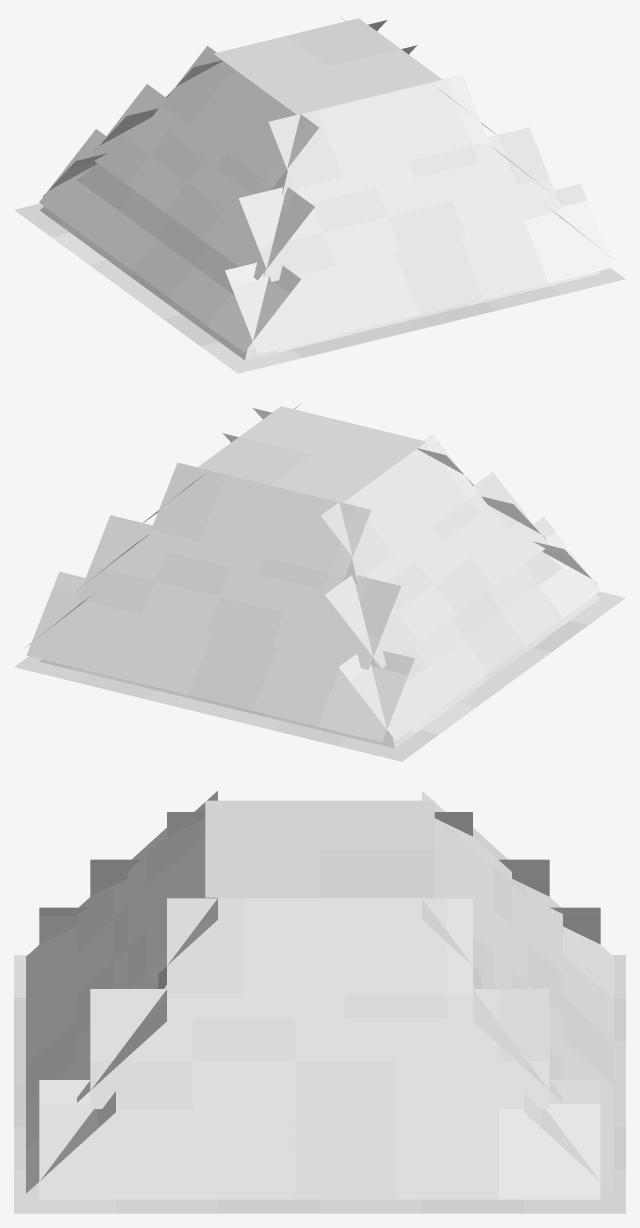
Rendered from dust_pile_large.obj.
3 views of the same model, one above another, from view 1: azimuth 30°, elevation 25°; view 2: azimuth 150°, elevation 25°; view 3: azimuth 270°, elevation 25° (orthographic). The views are drawn at different scales.
Parts seen in each view (by area): view 1: dust_pile_large; view 2: dust_pile_large; view 3: dust_pile_large.
Part boxes in pixels (x1,y1,x2,y2): dust_pile_large: [14, 15, 625, 373]; dust_pile_large: [14, 403, 625, 761]; dust_pile_large: [14, 791, 625, 1213].
Bounding box in the file's own units: 1.5 × 0.65 × 1.5.
